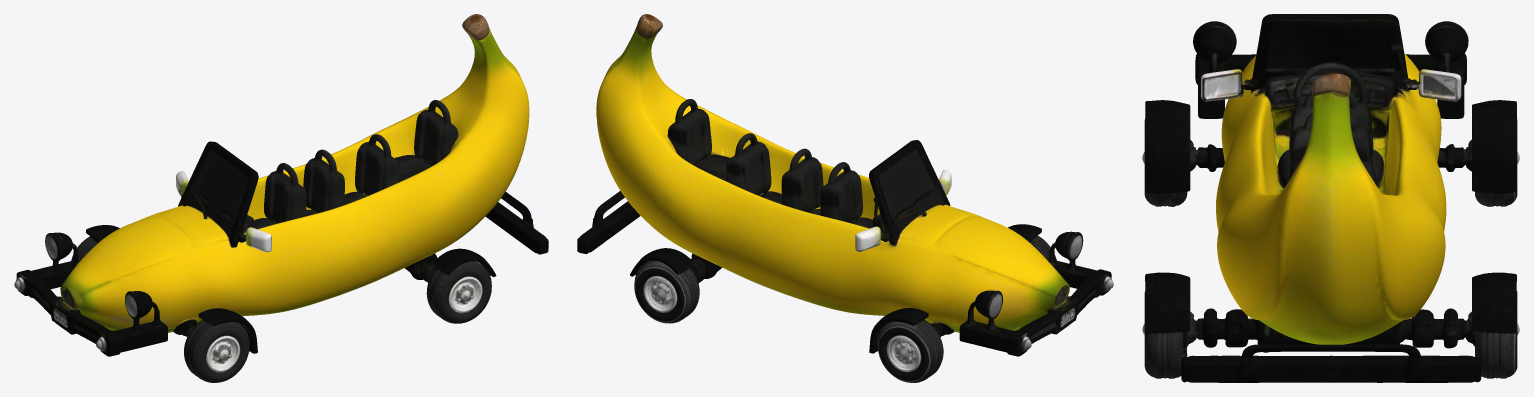
Rendered from banana.glb.
3 views of the same model, side by side, from view 1: azimuth 30°, elevation 25°; view 2: azimuth 150°, elevation 25°; view 3: azimuth 270°, elevation 25° (orthographic). The views are drawn at different scales.
Size of the model in its own units: 1.9 by 0.9515 by 0.9176.
Materials: 1 (1 with a texture image).
